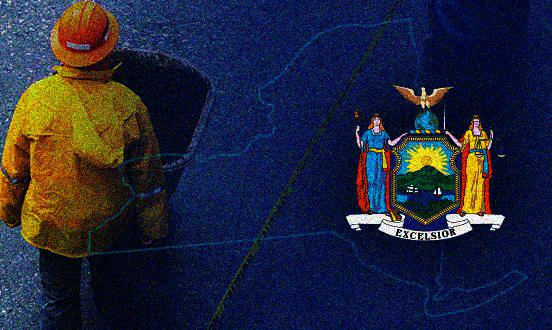helmet: (46, 1, 123, 76)
